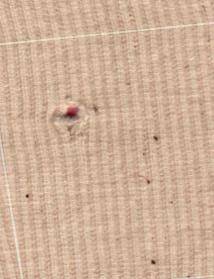hole: (51, 93, 95, 138)
stain: (17, 187, 38, 205), (137, 175, 157, 191), (149, 133, 168, 149), (145, 252, 162, 269), (165, 199, 181, 212)
